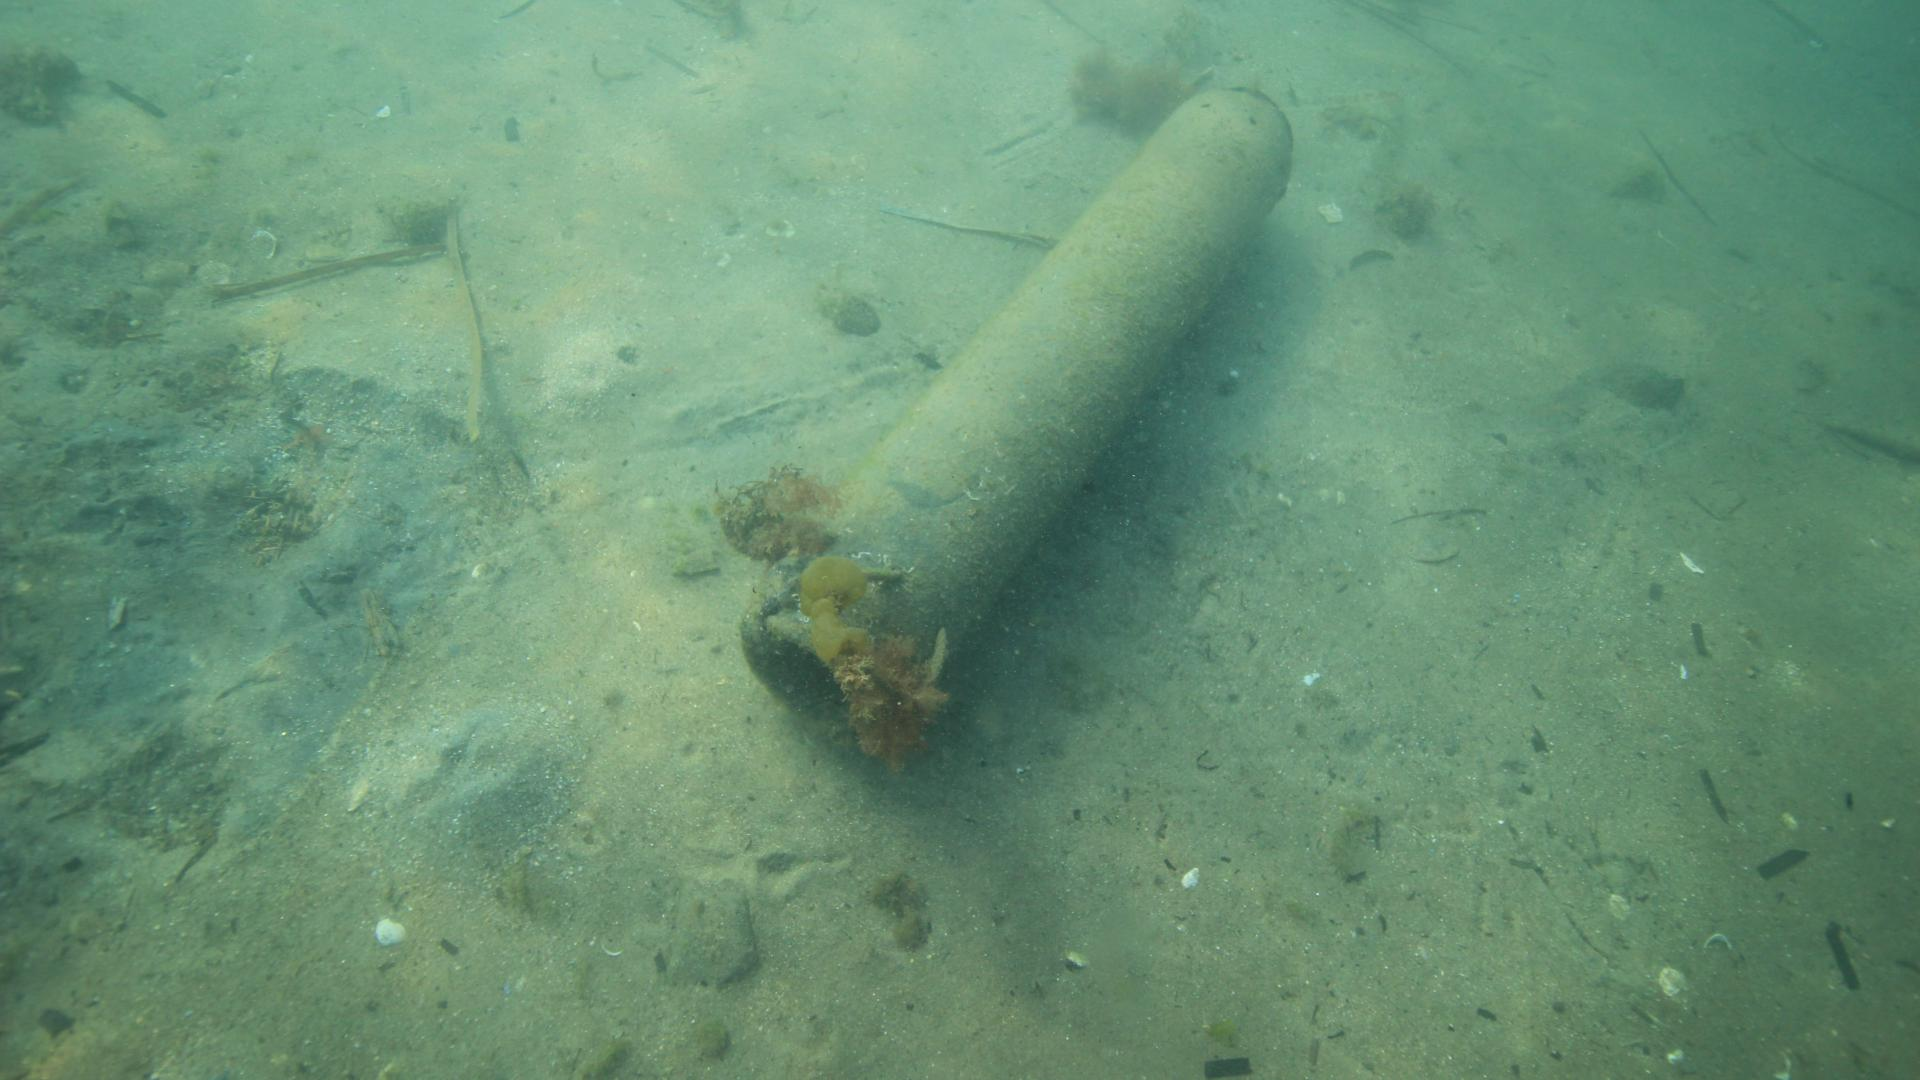eel fish trap: (738, 82, 1299, 748)
